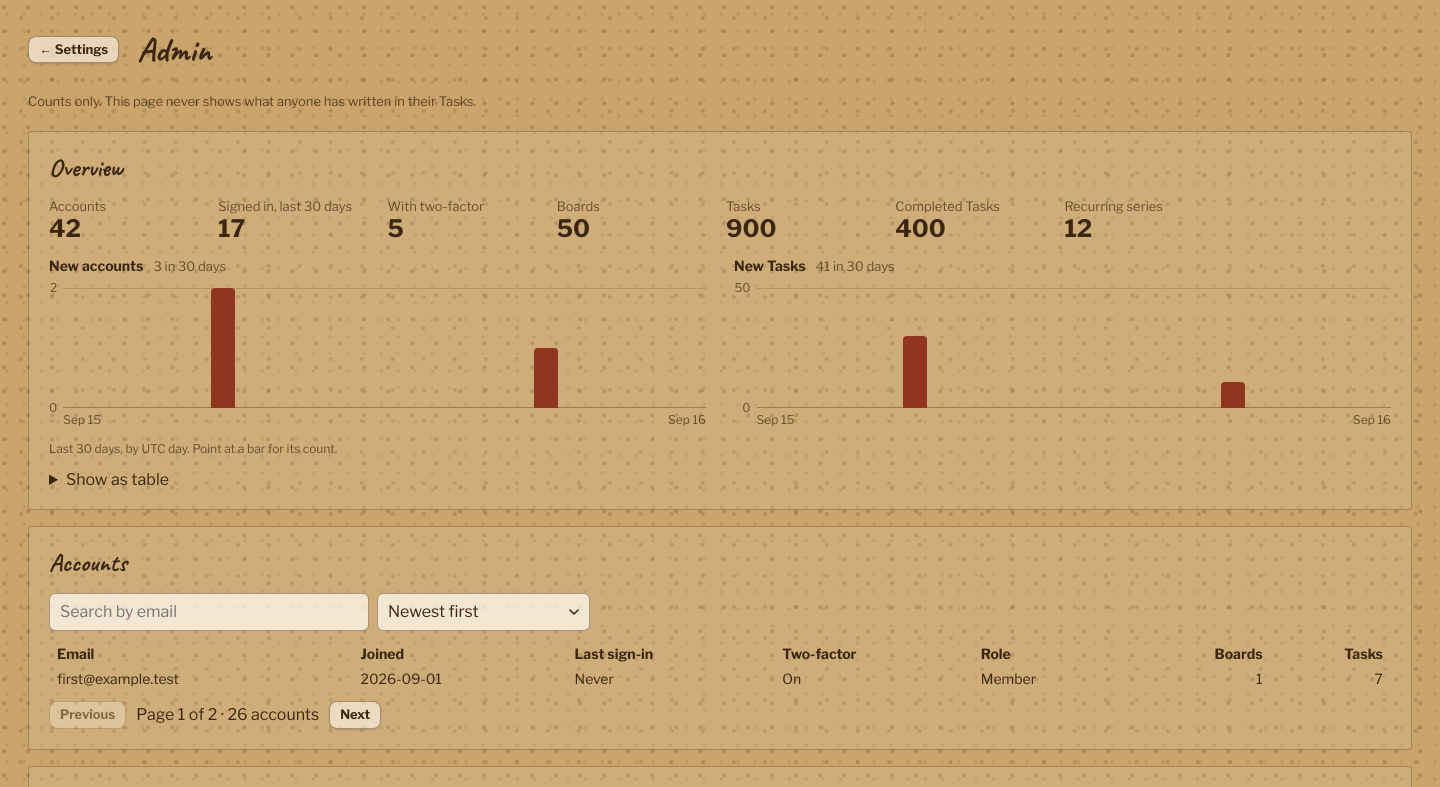
Test case: lists accounts with dates and counts, and pages through them
The width and height of the screenshot is (1440, 787).
Expected: the text "first@example.test" shows "2026-09-01", [360,670,442,687]
Expected: the text "first@example.test" shows "Never", [574,670,614,687]
Click the button "Next" at point(355, 715), box [329,701,381,729]
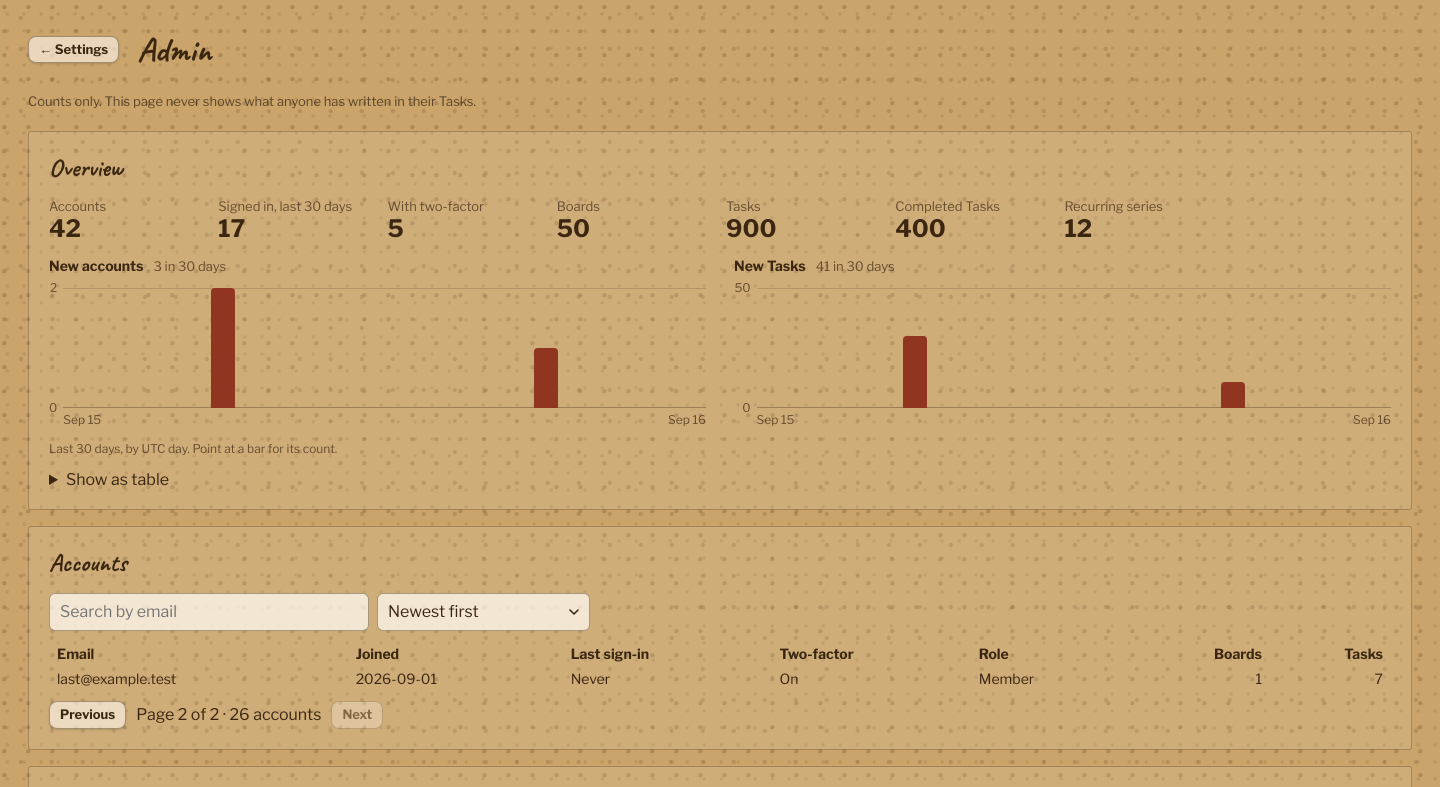
Expected: the text "last@example.test" is shown, [49,666,348,691]
Expected: the button "Next" is disabled, [331,701,383,729]
